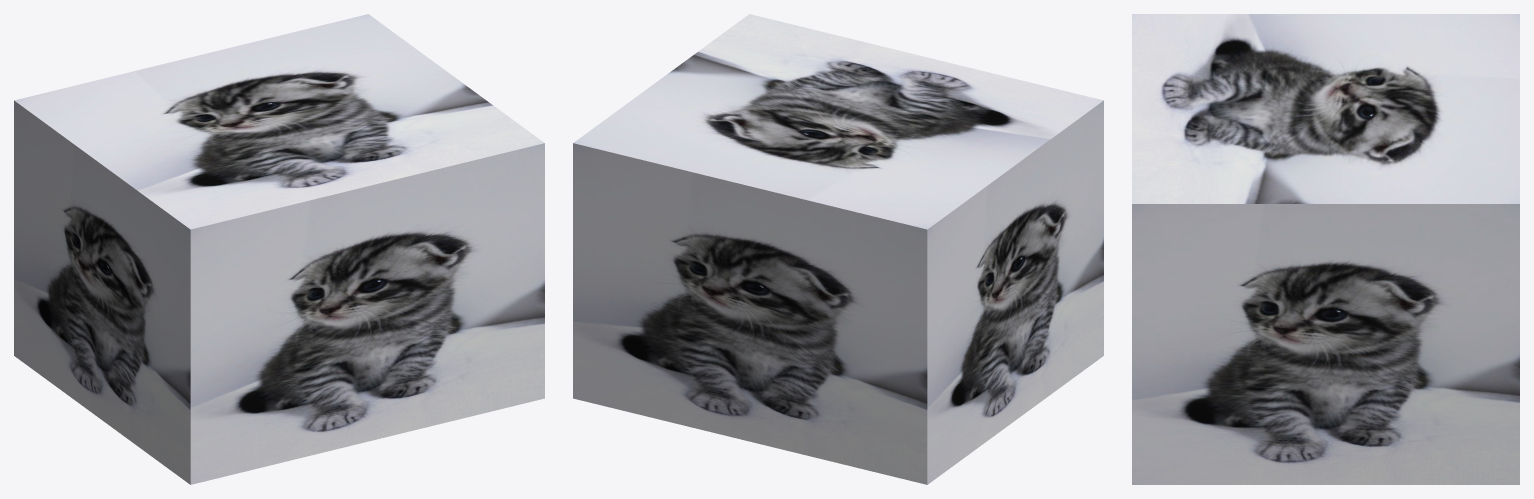
3 renders of one model, left to right at view 1: azimuth 30°, elevation 25°; view 2: azimuth 150°, elevation 25°; view 3: azimuth 270°, elevation 25°, orthographic. The views are drawn at different scales.
Parts seen in each view (by area): view 1: Box001; view 2: Box001; view 3: Box001.
Boxes of the visible parts, bbox=[...] form: Box001: bbox=[14, 14, 544, 484]; Box001: bbox=[573, 14, 1103, 484]; Box001: bbox=[1132, 14, 1519, 484].
Bounding box in the file's own units: 80.37 × 55.36 × 69.31.
Materials: 1 (1 with a texture image).
